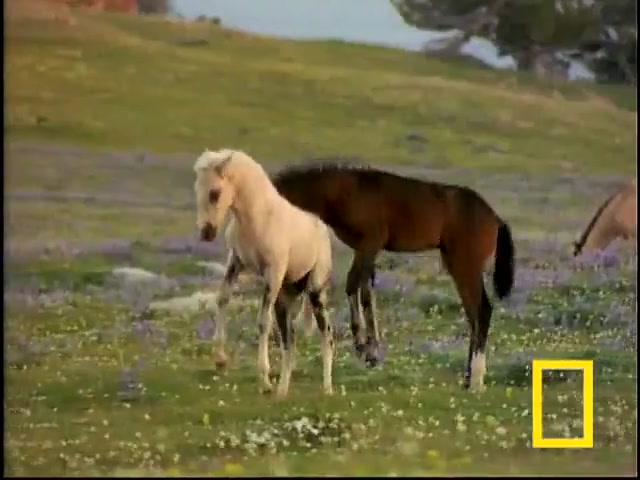horse: (193, 149, 339, 400)
